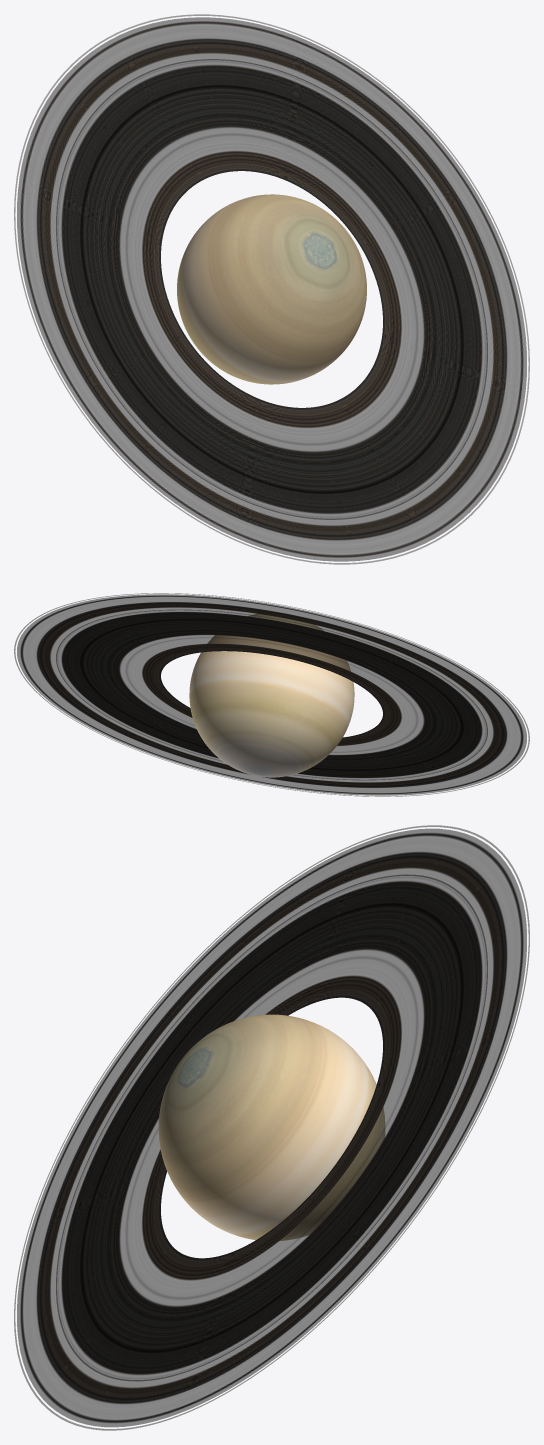
3 renders of one model, top to bottom at view 1: azimuth 30°, elevation 25°; view 2: azimuth 150°, elevation 25°; view 3: azimuth 270°, elevation 25°, orthographic. The views are drawn at different scales.
Parts seen in each view (by area): view 1: ring, saturn; view 2: ring, saturn; view 3: ring, saturn.
Boxes of the visible parts, <box> form: ring: <box>14,14,529,564</box>; saturn: <box>177,194,366,384</box>; ring: <box>14,593,529,796</box>; saturn: <box>189,614,354,777</box>; ring: <box>14,825,529,1430</box>; saturn: <box>158,1014,385,1240</box>.
Bounding box in the file's own units: 67.03 × 49.53 × 48.99.
2 materials, 2 textured.
